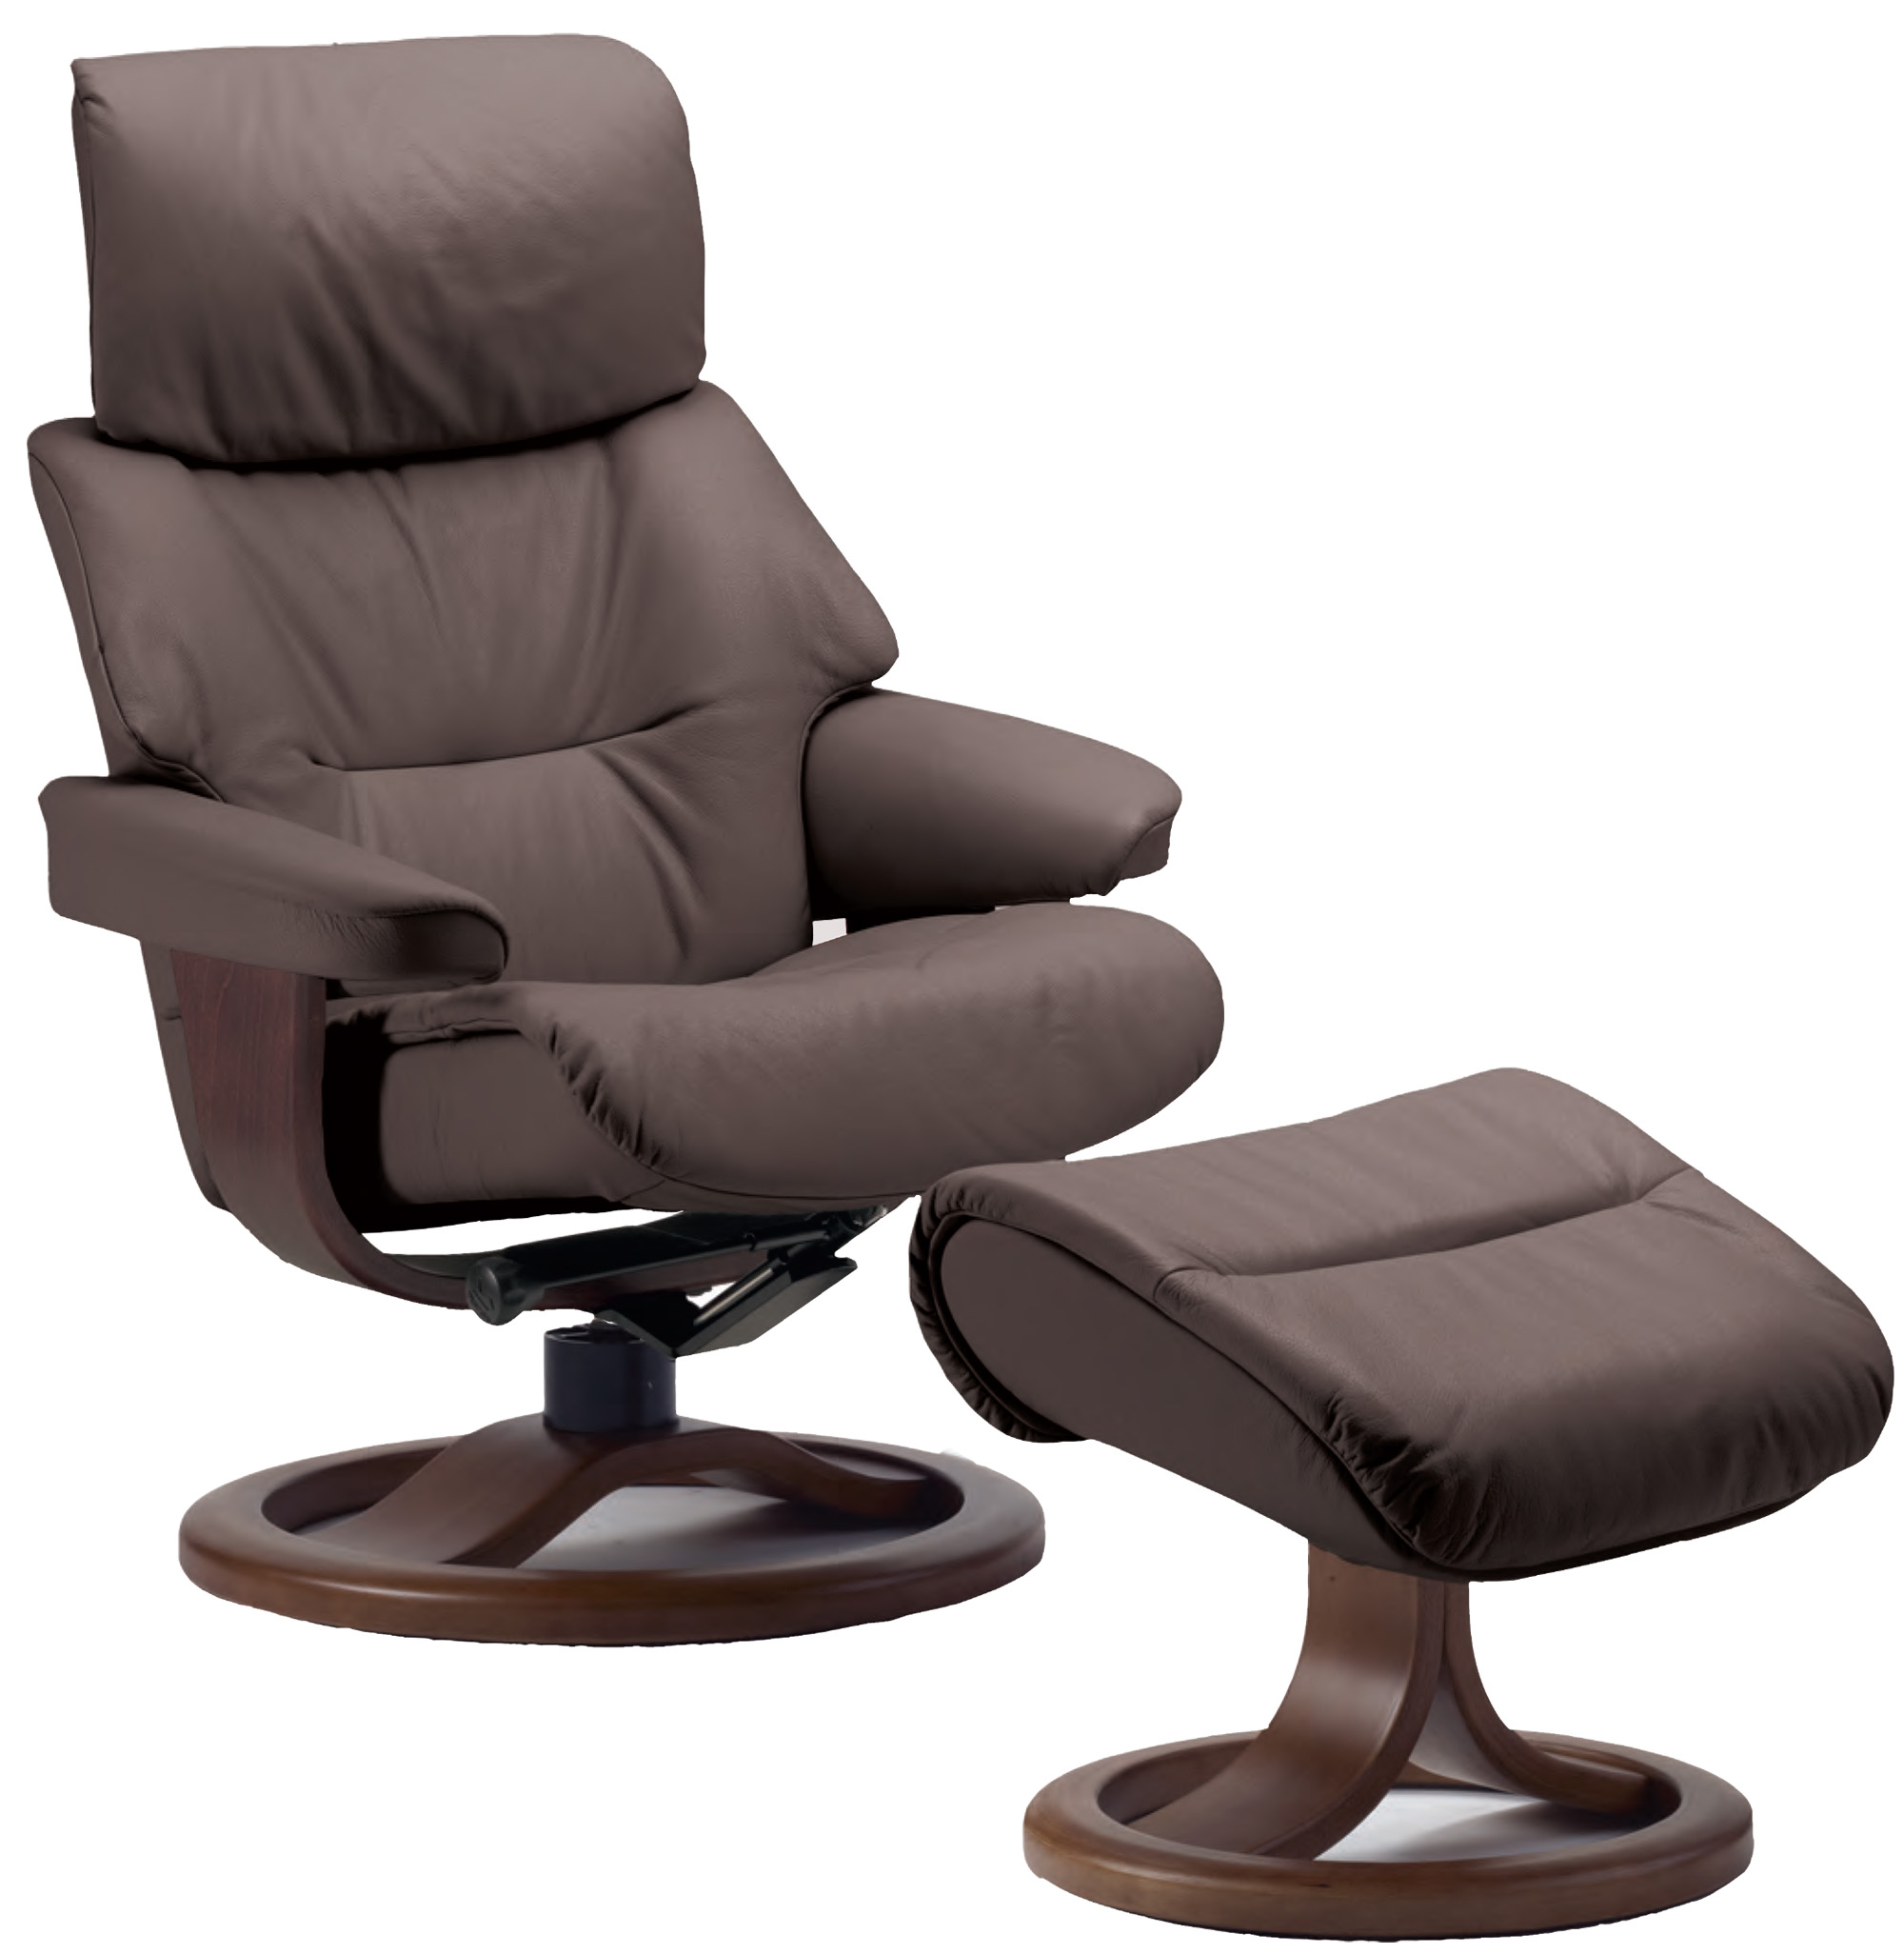chairs: (19, 12, 1240, 1663), (901, 1056, 1904, 1954)
